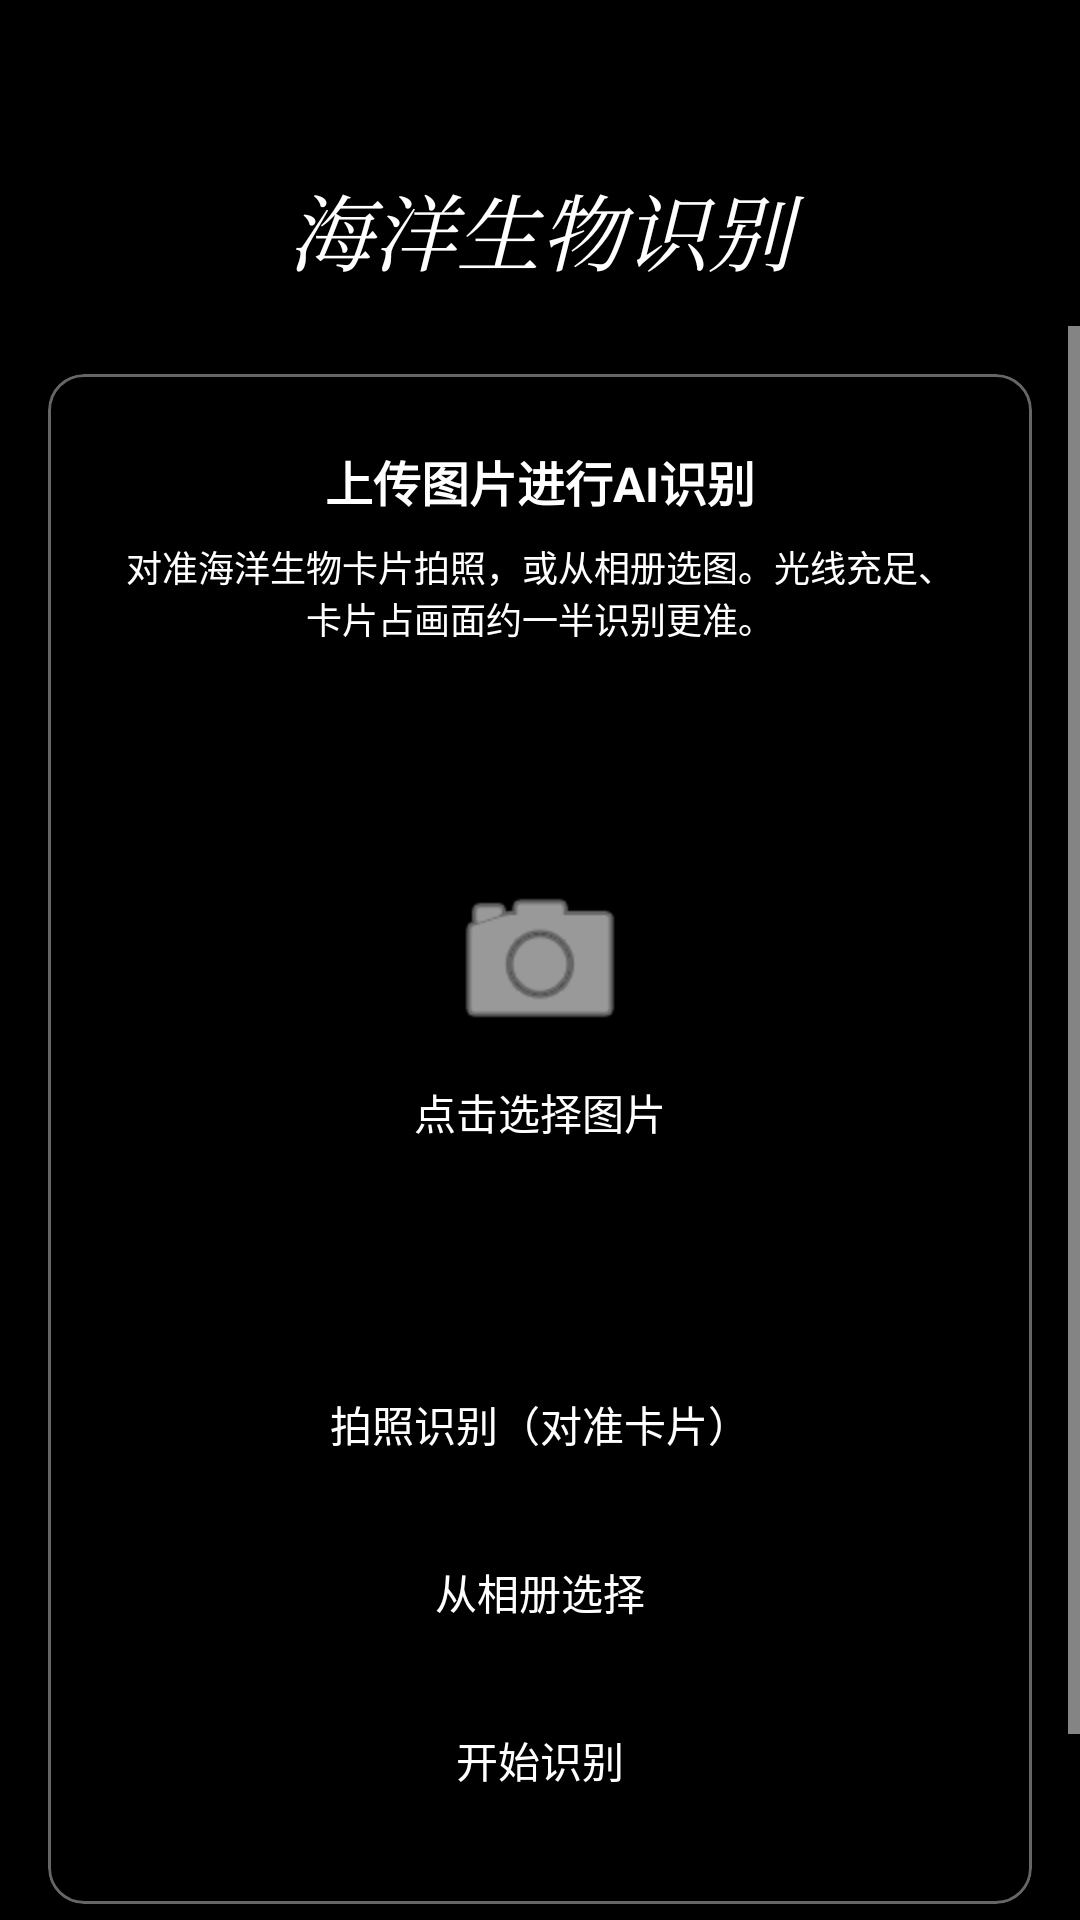

Point at icon controls on the screen. Image size 1080px×1920px, points as (x,y).
camera: (540,958)
